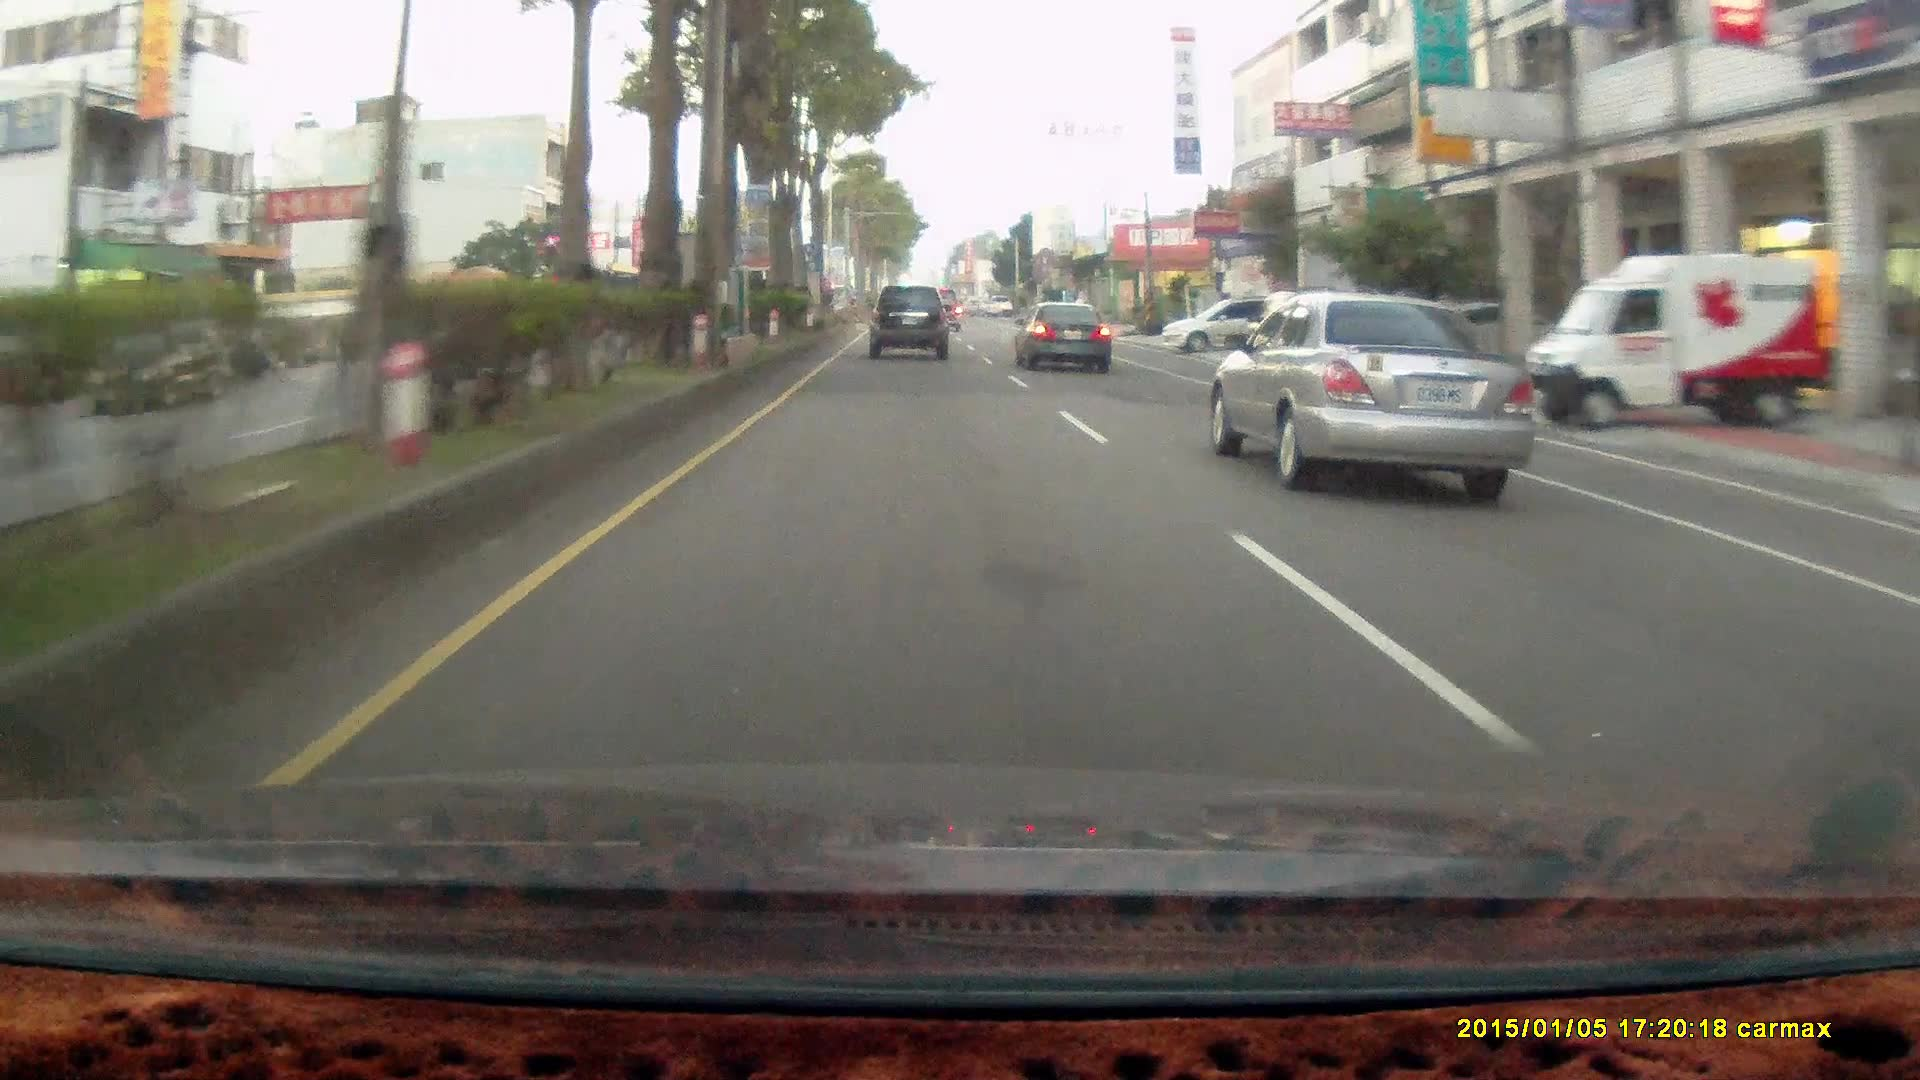vehicle: (1218, 290, 1544, 489), (1526, 252, 1840, 429), (1526, 253, 1826, 429), (84, 324, 225, 415), (1261, 286, 1379, 372), (1158, 301, 1305, 363), (1159, 298, 1305, 357), (1014, 302, 1116, 375), (1013, 301, 1112, 375), (870, 285, 953, 364), (866, 285, 948, 360)
